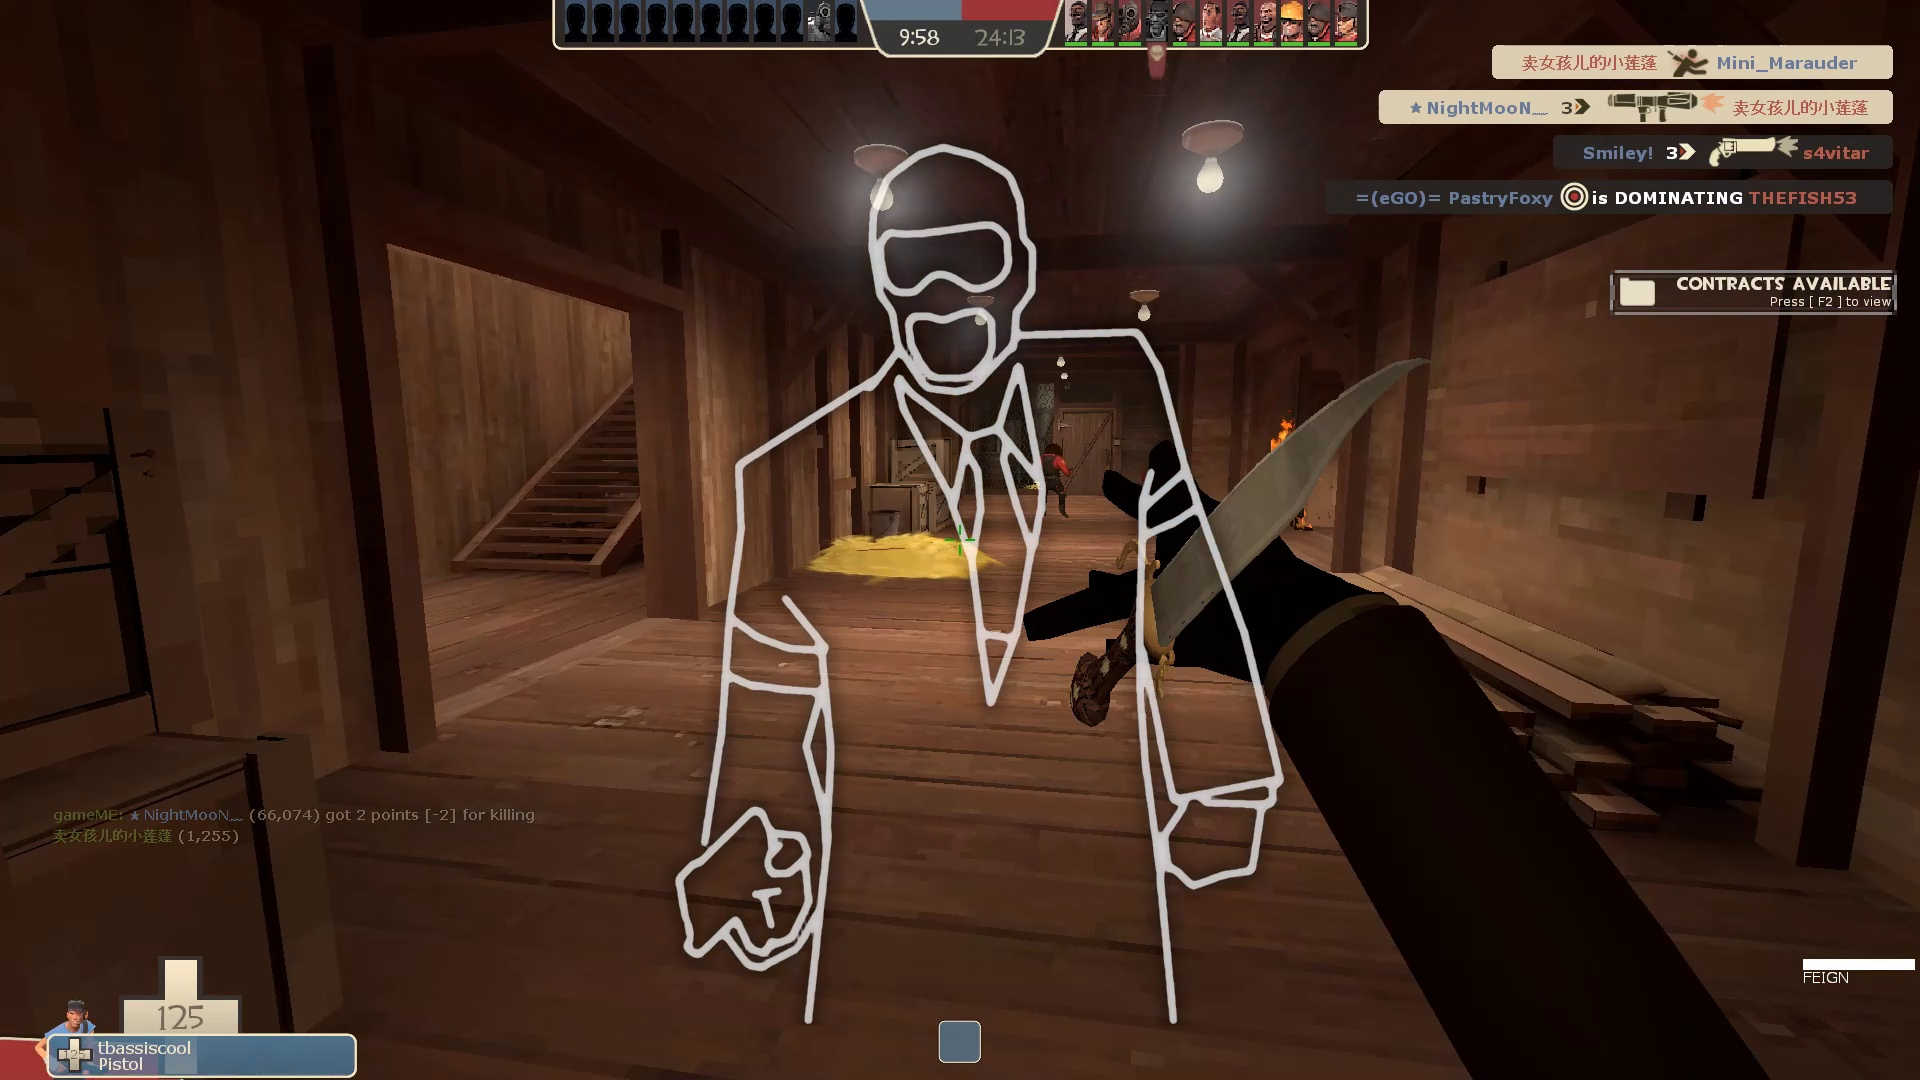red_engineer: (1034, 439, 1084, 524)
